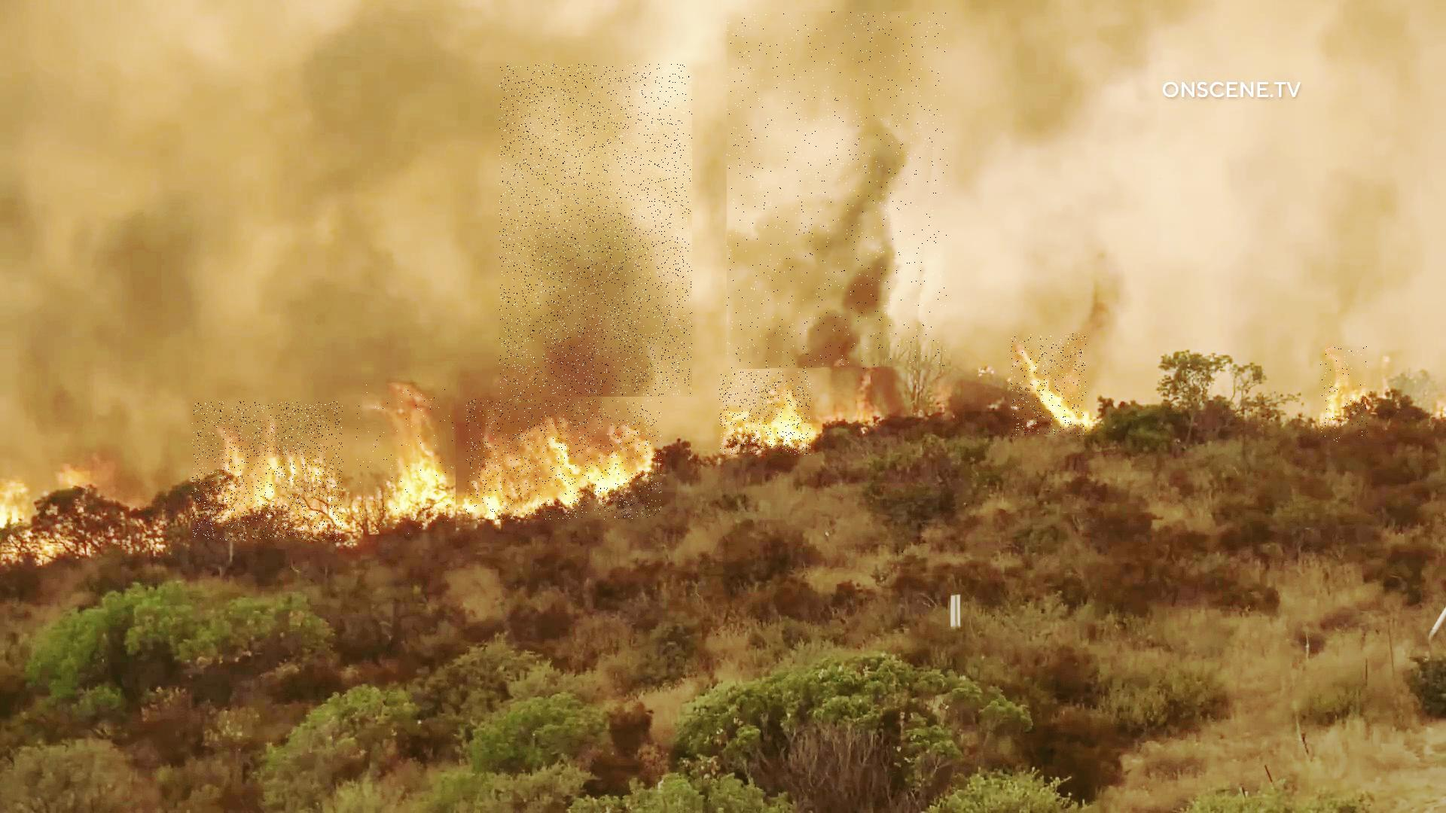fire: (466, 399, 661, 520), (193, 401, 344, 541), (353, 383, 456, 535), (1011, 334, 1087, 437), (720, 371, 811, 455), (1320, 347, 1368, 443)
smoke: (727, 11, 948, 370), (499, 64, 692, 397)
